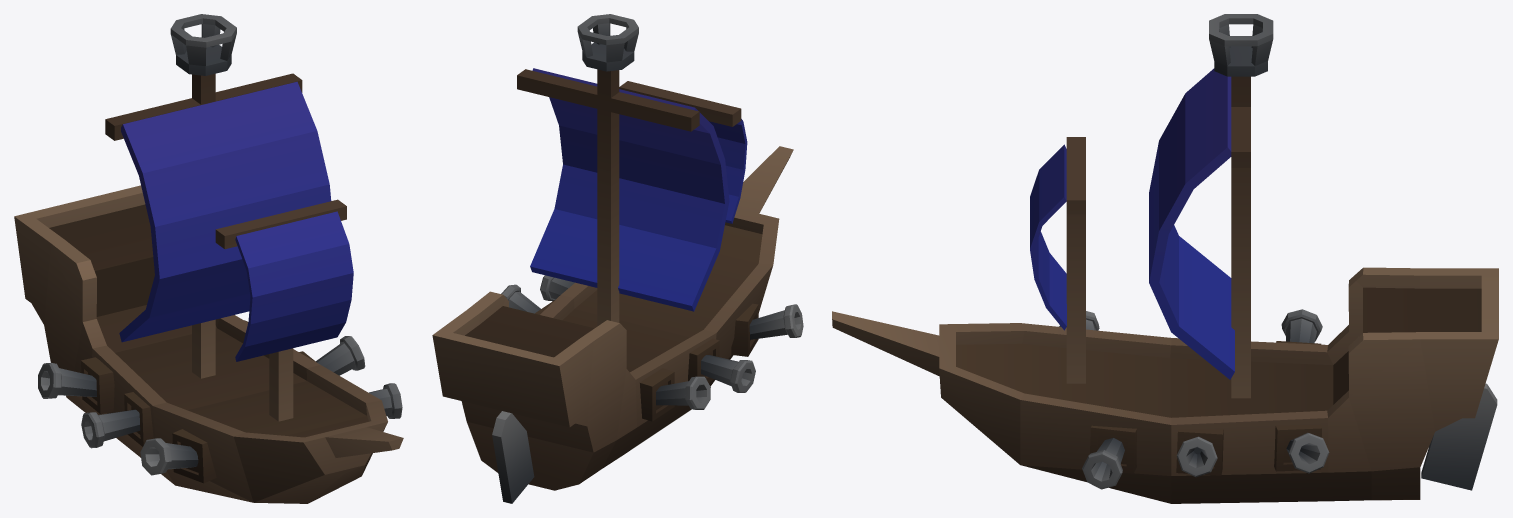
File: EditedLukeAllyboatfinished.fbx
3 views of the same model, side by side, from view 1: azimuth 30°, elevation 25°; view 2: azimuth 150°, elevation 25°; view 3: azimuth 270°, elevation 25° (orthographic). The views are drawn at different scales.
Visible parts, largest first — view 1: Ship; view 2: Ship; view 3: Ship.
Part boxes in pixels (left/top/right/bottom): Ship: left=14, top=14, right=403, bottom=503; Ship: left=432, top=14, right=803, bottom=503; Ship: left=832, top=14, right=1498, bottom=503.
Size of the model in its own units: 796 by 1224 by 1604.
